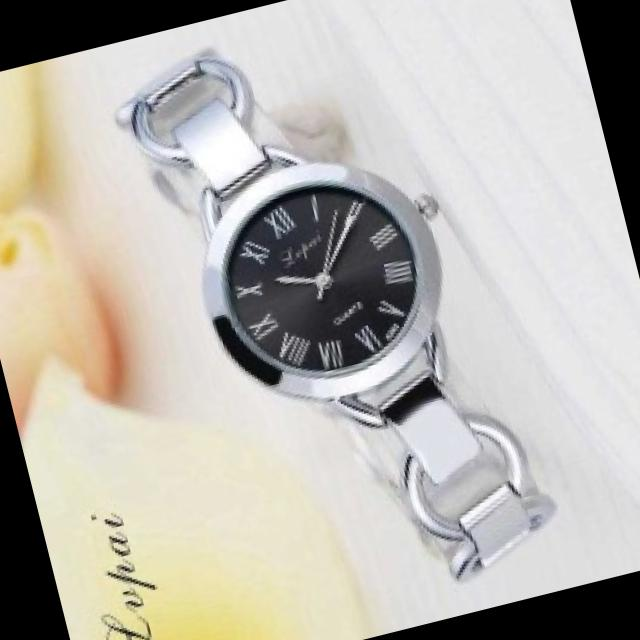saat: (97, 0, 579, 640)
